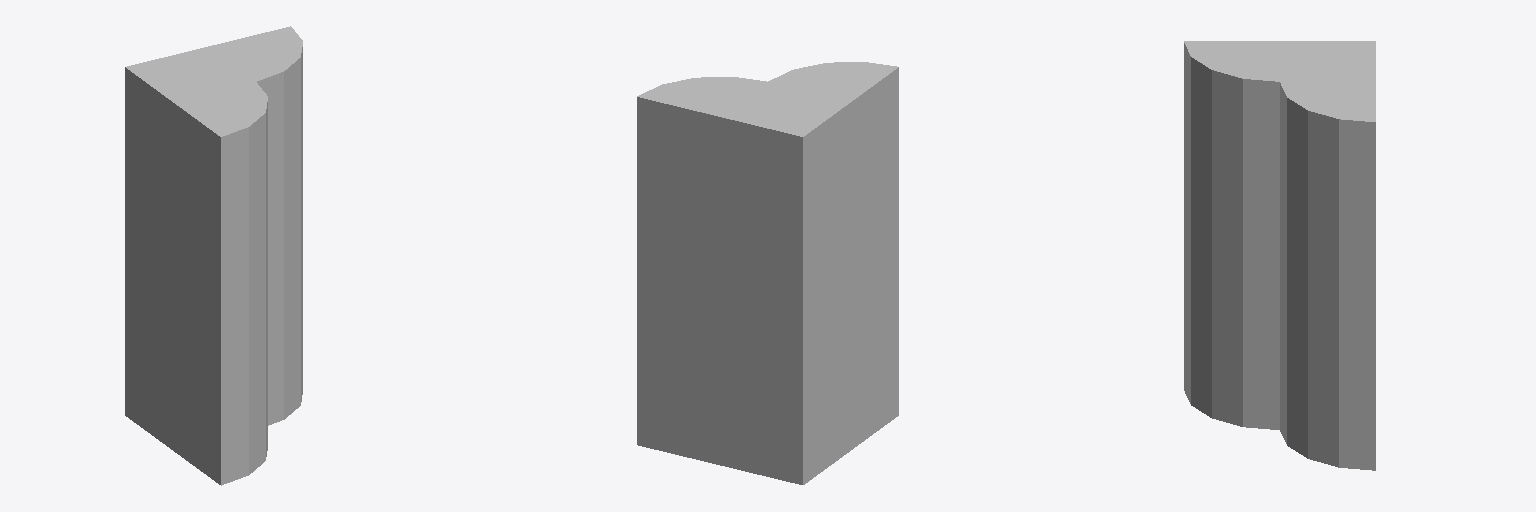
The model's file is wall_big4.obj.
3 views of the same model, side by side, from view 1: azimuth 30°, elevation 25°; view 2: azimuth 150°, elevation 25°; view 3: azimuth 270°, elevation 25° (orthographic).
Bounding box in the file's own units: 1 × 2 × 1.